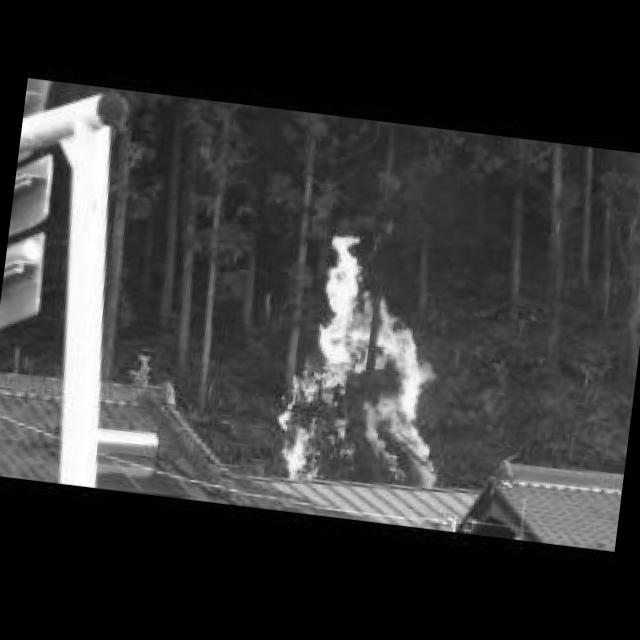fire: (272, 228, 463, 496)
